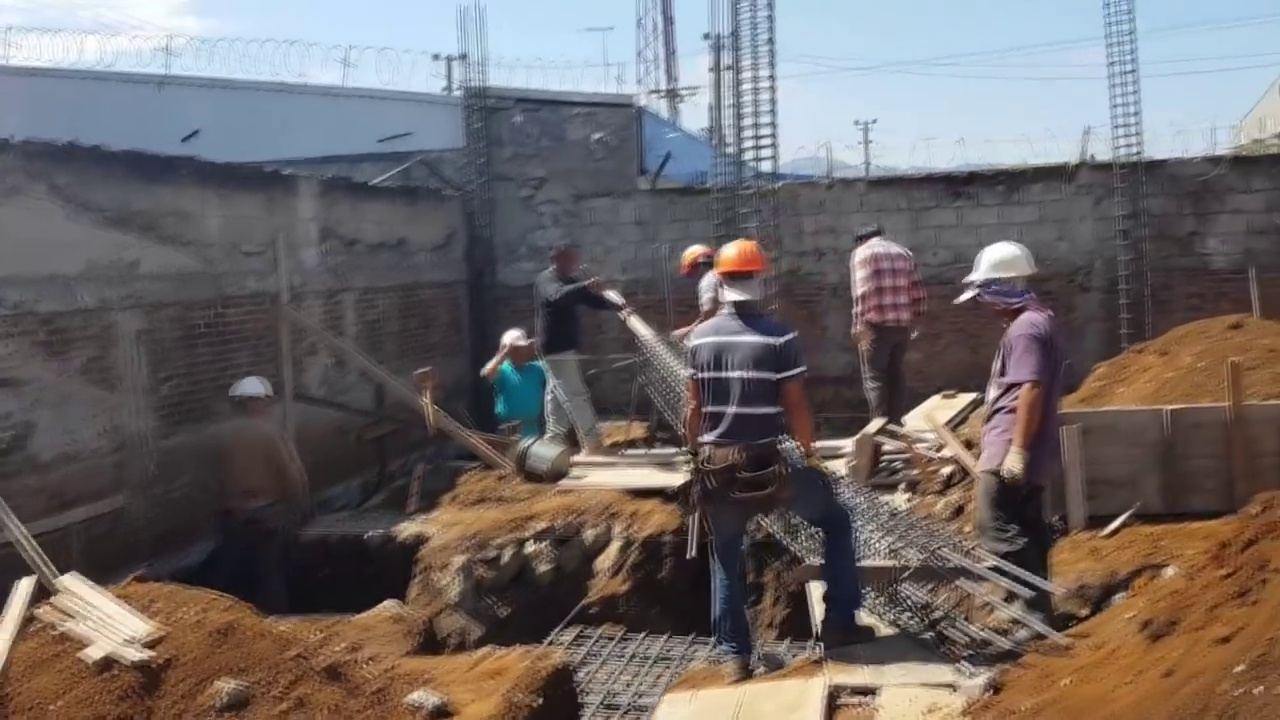helmet: (959, 236, 1041, 288), (710, 239, 767, 276), (227, 375, 272, 401), (677, 242, 711, 273), (501, 328, 536, 351)
helmet-off: (548, 247, 583, 286), (851, 218, 885, 250)
helmet-on: (959, 238, 1040, 325), (710, 239, 767, 316), (227, 375, 272, 427), (500, 327, 537, 367), (678, 240, 710, 285)
person: (674, 238, 876, 689), (953, 236, 1065, 628), (173, 376, 301, 580), (850, 220, 926, 422), (533, 251, 606, 457), (481, 327, 544, 437), (672, 242, 721, 339)
